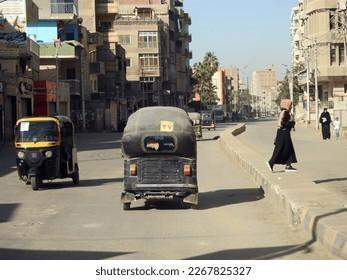keke: (116, 106, 200, 212), (17, 112, 80, 191)
